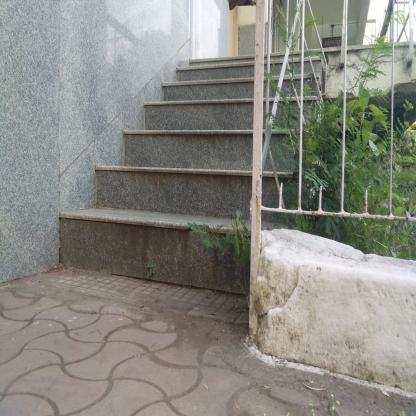stairs: (94, 74, 250, 291)
